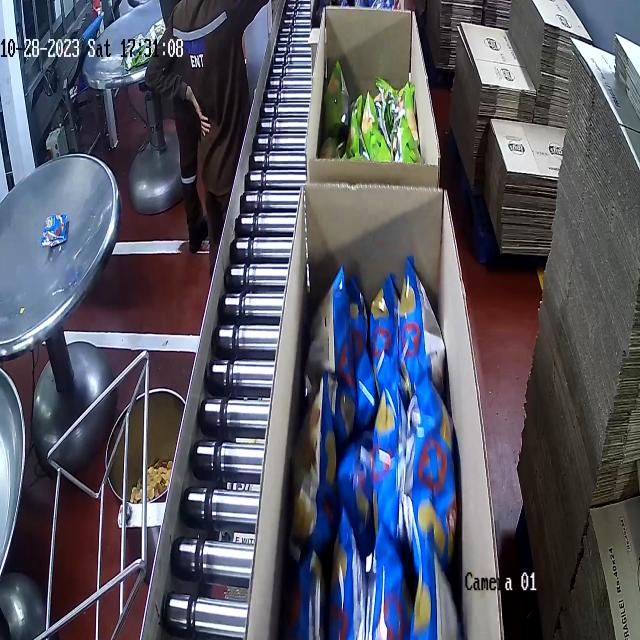PAPRIKA: (296, 267, 462, 640)
YOGURT_HERB: (326, 61, 419, 166)
